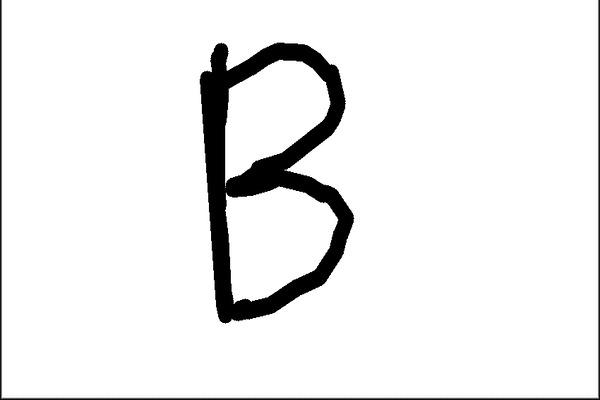B: (190, 29, 362, 329)
